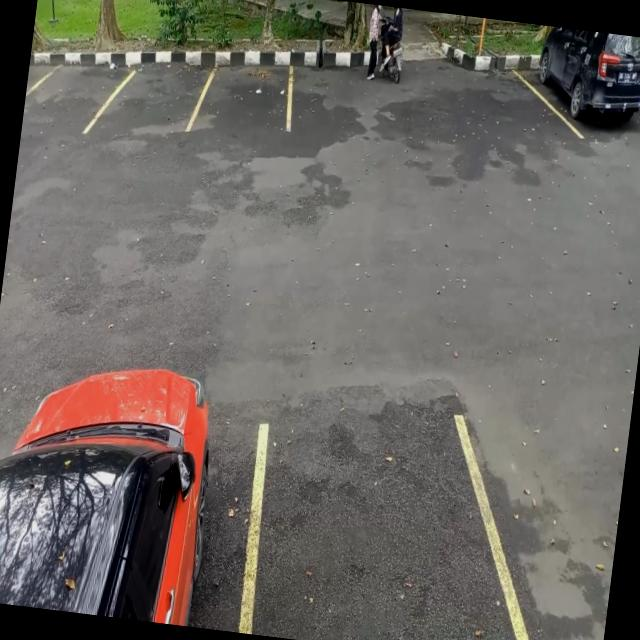car: (530, 25, 640, 142)
free: (244, 397, 520, 640), (469, 406, 628, 640), (99, 48, 210, 145), (192, 46, 298, 142), (24, 44, 120, 138)
